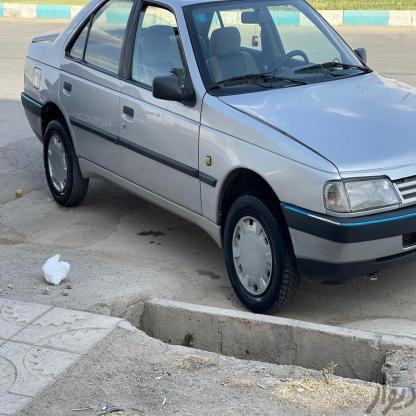Car: (10, 0, 415, 315)
